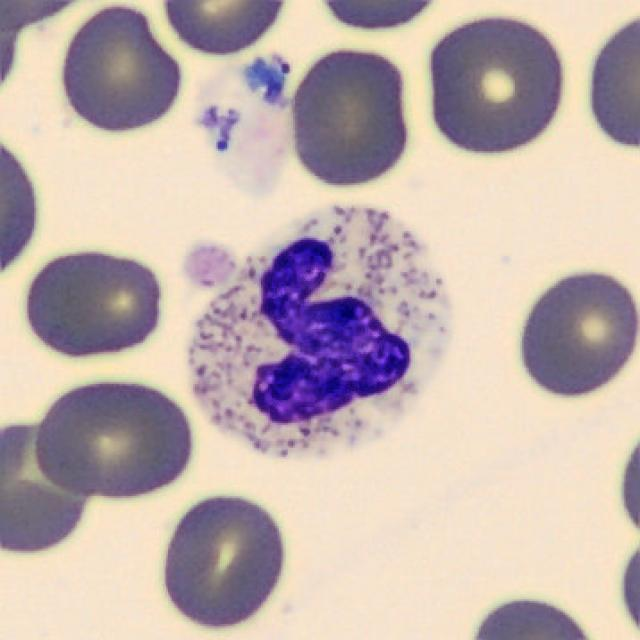Neutrofilo segmentado: (189, 206, 449, 452)
